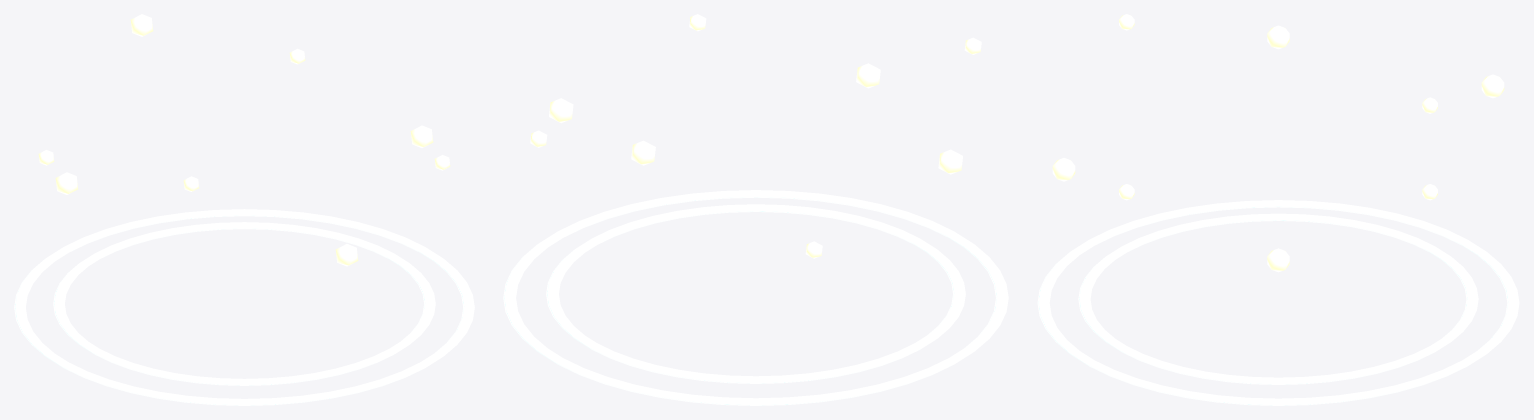
Rendered from fx_rank.glb.
3 renders of one model, left to right at view 1: azimuth 30°, elevation 25°; view 2: azimuth 150°, elevation 25°; view 3: azimuth 270°, elevation 25°, orthographic. The views are drawn at different scales.
Parts seen in each view (by area): view 1: Fx_AuraRing0, Fx_AuraRing1; view 2: Fx_AuraRing0, Fx_AuraRing1, Fx_Spark2, Fx_Spark0, Fx_Spark4, Fx_Spark6; view 3: Fx_AuraRing0, Fx_AuraRing1, Fx_Spark2, Fx_Spark6, Fx_Spark0, Fx_Spark4.
Boxes of the visible parts, bbox=[...] form: Fx_AuraRing0: bbox=[14, 209, 474, 405]; Fx_AuraRing1: bbox=[53, 222, 435, 385]; Fx_AuraRing0: bbox=[503, 190, 1008, 405]; Fx_AuraRing1: bbox=[546, 204, 965, 383]; Fx_Spark2: bbox=[631, 140, 655, 165]; Fx_Spark0: bbox=[549, 98, 573, 123]; Fx_Spark4: bbox=[938, 149, 962, 174]; Fx_Spark6: bbox=[856, 63, 880, 88]; Fx_AuraRing0: bbox=[1037, 200, 1519, 405]; Fx_AuraRing1: bbox=[1078, 213, 1478, 384]; Fx_Spark2: bbox=[1481, 74, 1504, 98]; Fx_Spark6: bbox=[1052, 158, 1075, 181]; Fx_Spark0: bbox=[1267, 248, 1289, 272]; Fx_Spark4: bbox=[1267, 25, 1289, 49].
Bounding box in the file's own units: 0.944 × 0.4992 × 0.944.
